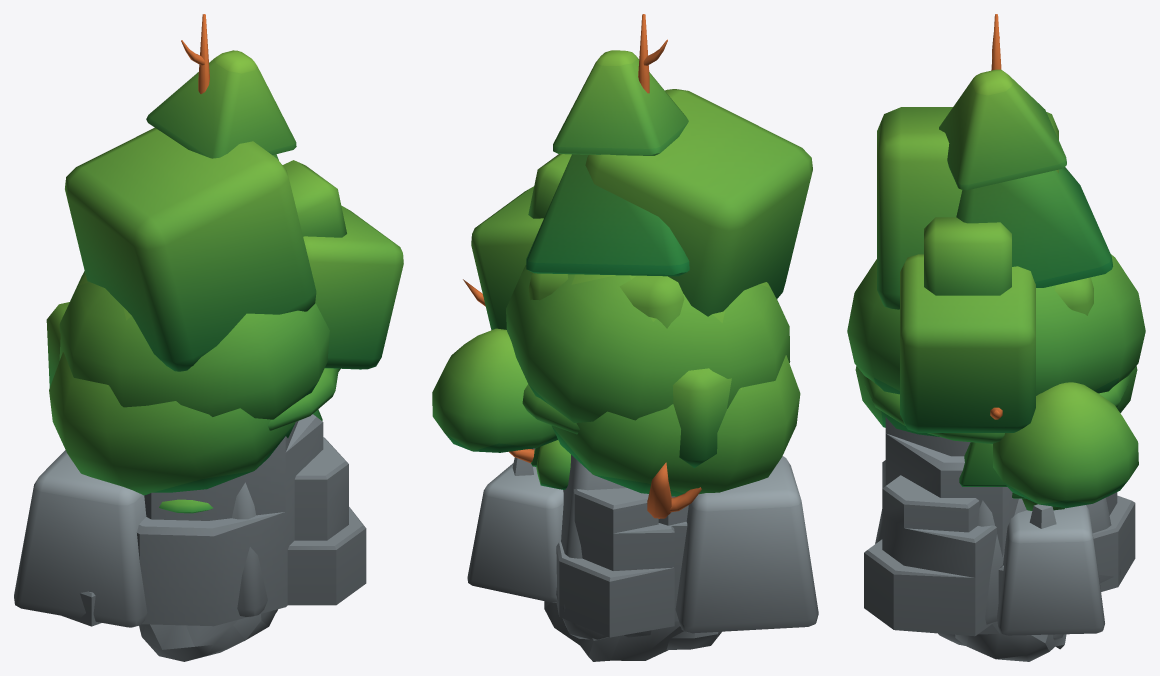
File: env-forest.glb
3 views of the same model, side by side, from view 1: azimuth 30°, elevation 25°; view 2: azimuth 150°, elevation 25°; view 3: azimuth 270°, elevation 25° (orthographic).
Parts seen in each view (by area): view 1: Tree_2_B_Color1, Rock_1_K_Color1, Tree_1_B_Color1, Rock_2_F_Color1, Tree_1_A_Color1, Tree_4_B_Color1, Rock_3_G_Color1, Tree_3_A_Color1, Tree_2_A_Color1, Tree_Bare_2_C_Color1; view 2: Tree_1_B_Color1, Tree_2_B_Color1, Rock_2_F_Color1, Tree_4_B_Color1, Tree_1_A_Color1, Rock_1_K_Color1, Tree_2_A_Color1, Rock_3_J_Color1, Tree_Bare_1_C_Color1, Rock_3_G_Color1, Tree_3_A_Color1, Tree_Bare_2_C_Color1; view 3: Tree_2_B_Color1, Tree_1_B_Color1, Rock_1_K_Color1, Tree_4_B_Color1, Rock_2_F_Color1, Rock_3_J_Color1, Tree_3_A_Color1, Tree_1_A_Color1, Tree_2_A_Color1.
Part boxes in pixels (x1,y1,x2,y2): Tree_2_B_Color1: [65, 127, 403, 371]; Rock_1_K_Color1: [62, 414, 366, 626]; Tree_1_B_Color1: [59, 271, 340, 419]; Rock_2_F_Color1: [14, 450, 267, 627]; Tree_1_A_Color1: [49, 352, 295, 495]; Tree_4_B_Color1: [146, 50, 322, 420]; Rock_3_G_Color1: [139, 609, 277, 661]; Tree_3_A_Color1: [159, 368, 338, 513]; Tree_2_A_Color1: [46, 302, 69, 387]; Tree_Bare_2_C_Color1: [181, 14, 209, 93]; Tree_1_B_Color1: [432, 265, 790, 463]; Tree_2_B_Color1: [471, 89, 812, 330]; Rock_2_F_Color1: [467, 455, 818, 633]; Tree_4_B_Color1: [526, 50, 689, 276]; Tree_1_A_Color1: [536, 355, 800, 496]; Rock_1_K_Color1: [530, 448, 688, 637]; Tree_2_A_Color1: [528, 273, 731, 467]; Rock_3_J_Color1: [544, 601, 683, 661]; Tree_Bare_1_C_Color1: [463, 279, 701, 518]; Rock_3_G_Color1: [562, 618, 721, 649]; Tree_3_A_Color1: [522, 384, 579, 434]; Tree_Bare_2_C_Color1: [638, 14, 667, 93]; Tree_2_B_Color1: [877, 107, 1058, 432]; Tree_1_B_Color1: [847, 254, 1145, 508]; Rock_1_K_Color1: [864, 417, 1135, 636]; Tree_4_B_Color1: [939, 69, 1112, 486]; Rock_2_F_Color1: [875, 497, 1120, 635]; Rock_3_J_Color1: [955, 621, 1066, 661]; Tree_3_A_Color1: [862, 375, 1130, 443]; Tree_1_A_Color1: [855, 366, 1137, 510]; Tree_2_A_Color1: [1055, 277, 1093, 315].
Size of the model in its own units: 4.82 by 8.07 by 3.45.
Materials: 1 (1 with a texture image).
